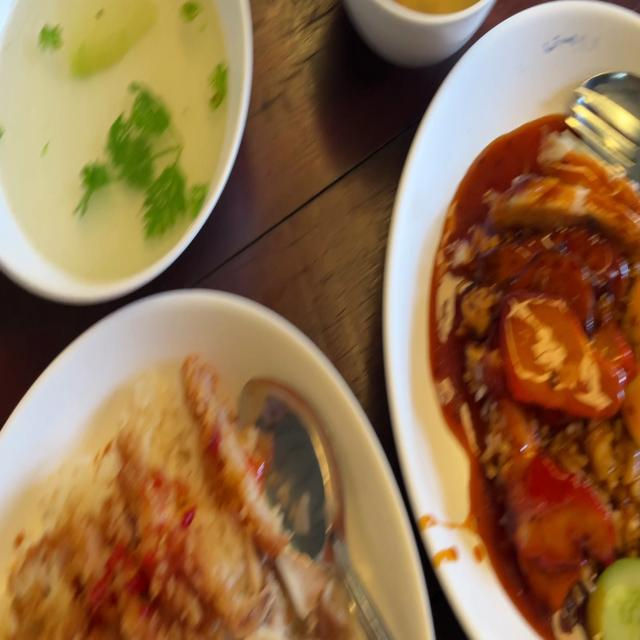01chainese_sausage: (503, 230, 630, 317)
01crispy_pork: (490, 136, 640, 239)
01red_pork: (506, 451, 610, 608), (501, 294, 634, 414)
01red_pork_and_crispy_pork: (453, 121, 640, 640)
chicken_rice: (0, 354, 360, 640)
cucumber: (585, 559, 640, 640)
fried_chicken: (32, 356, 274, 640)
